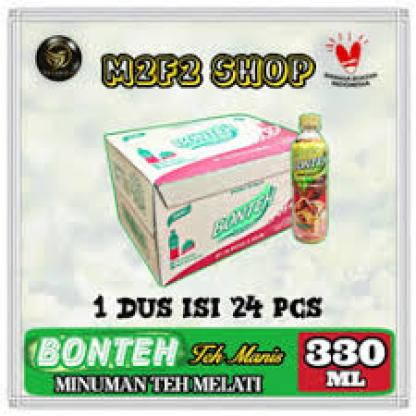Glass Bottle: (289, 113, 334, 244)
